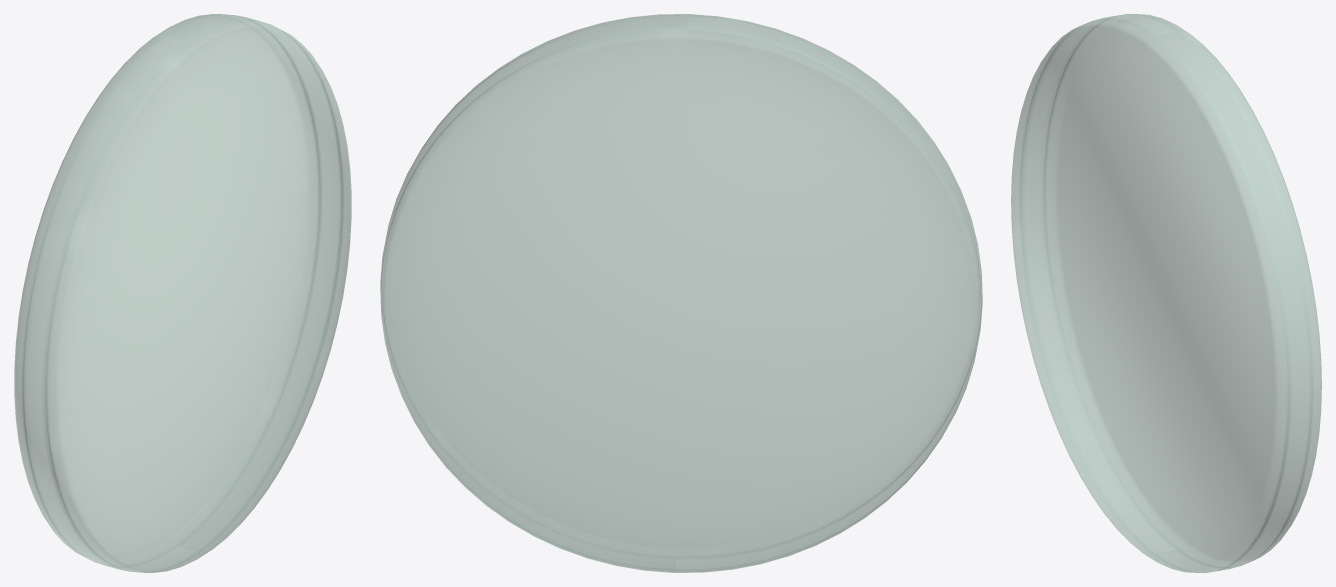
The model's file is C.Item.04.glb.
3 views of the same model, side by side, from view 1: azimuth 30°, elevation 25°; view 2: azimuth 150°, elevation 25°; view 3: azimuth 270°, elevation 25° (orthographic). The views are drawn at different scales.
Visible parts, largest first — view 1: C.Item.04; view 2: C.Item.04; view 3: C.Item.04.
Part boxes in pixels (x1=…): C.Item.04: x1=14, y1=14, x2=351, y2=572; C.Item.04: x1=380, y1=14, x2=982, y2=572; C.Item.04: x1=1011, y1=14, x2=1321, y2=572.
Size of the model in its own units: 0.2606 by 0.2862 by 0.1574.
1 material, 1 textured.
